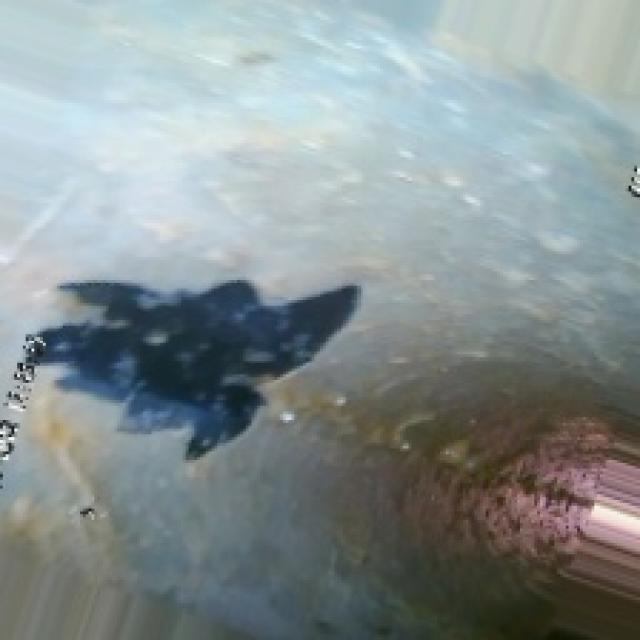pipe_surface_damage: (23, 251, 366, 463)
